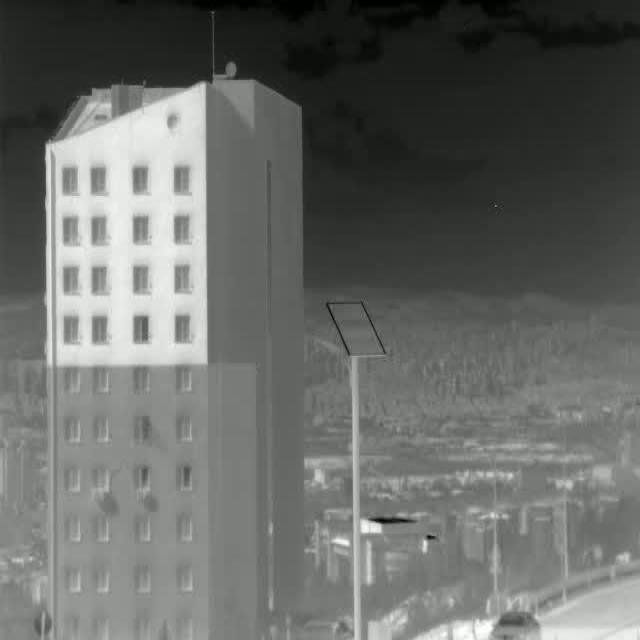Car: (487, 610, 542, 640)
